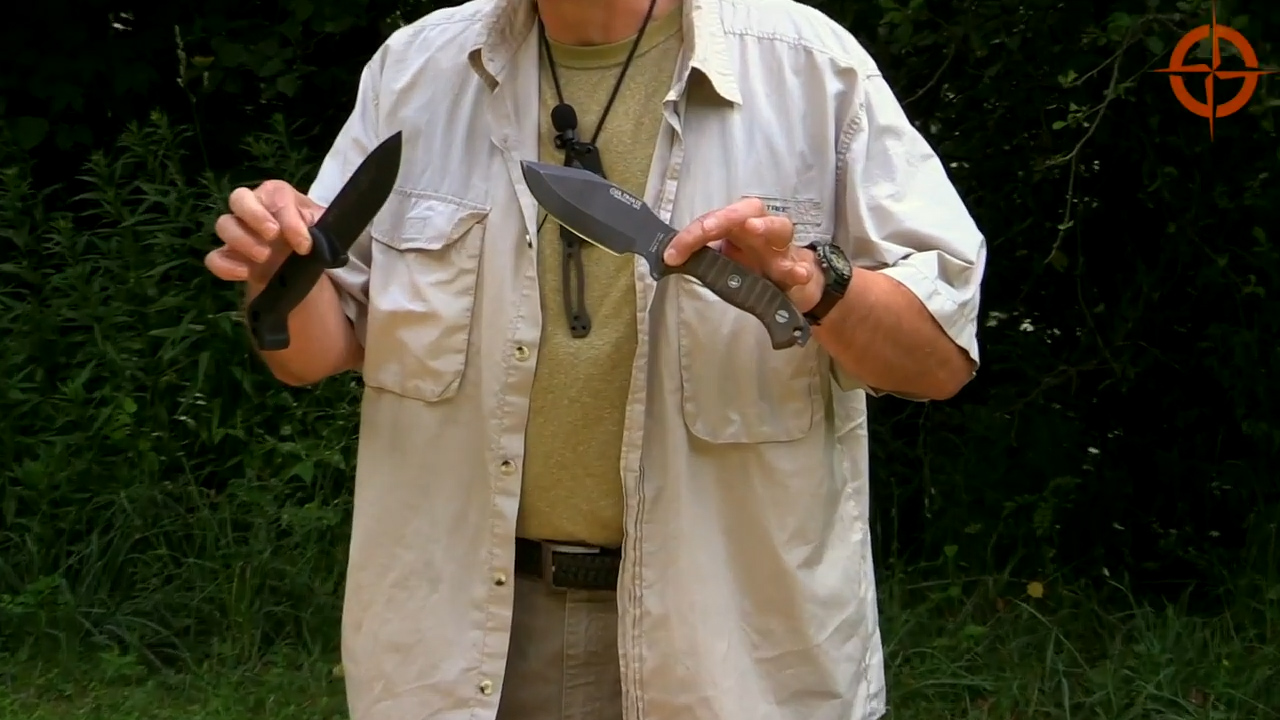knife: (513, 150, 819, 353), (246, 121, 407, 356)
